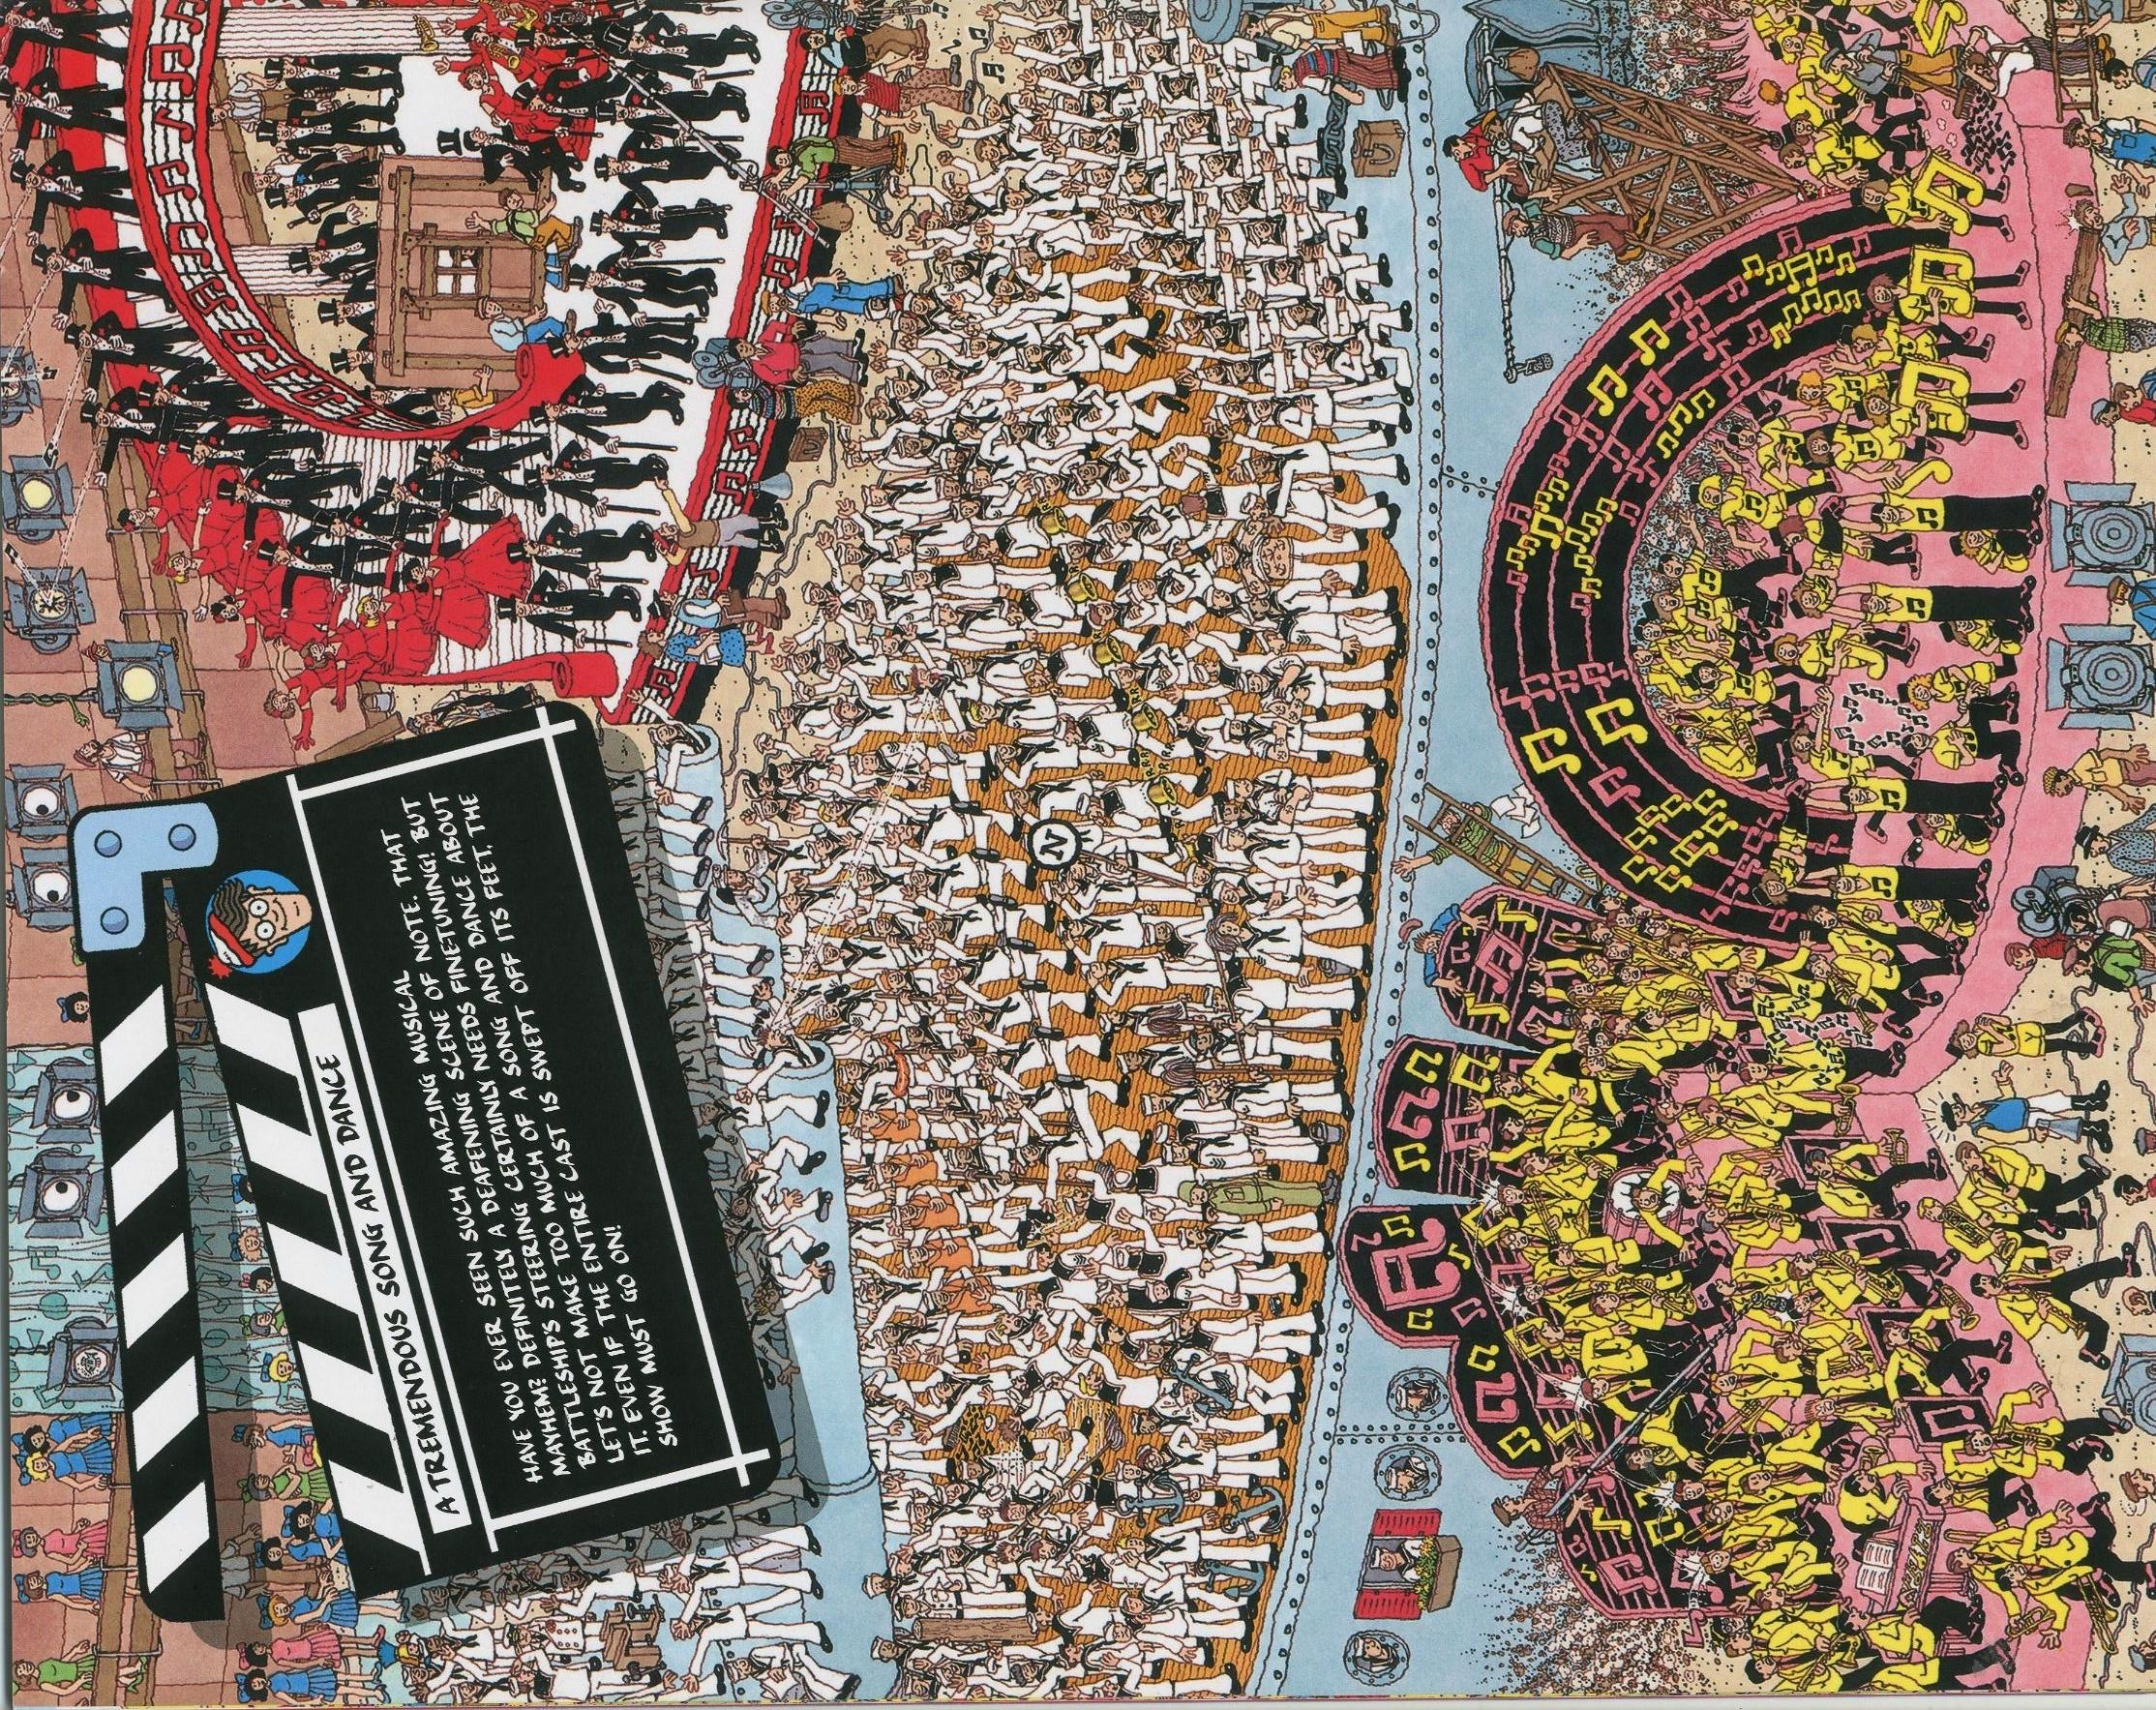waldos: (198, 870, 315, 984)
